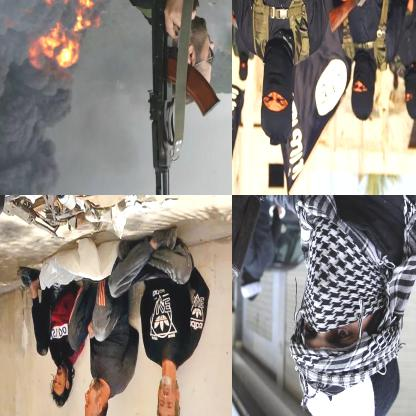rifle: (142, 0, 224, 194), (232, 195, 287, 415), (327, 0, 415, 33), (0, 195, 61, 241), (33, 195, 100, 229)
